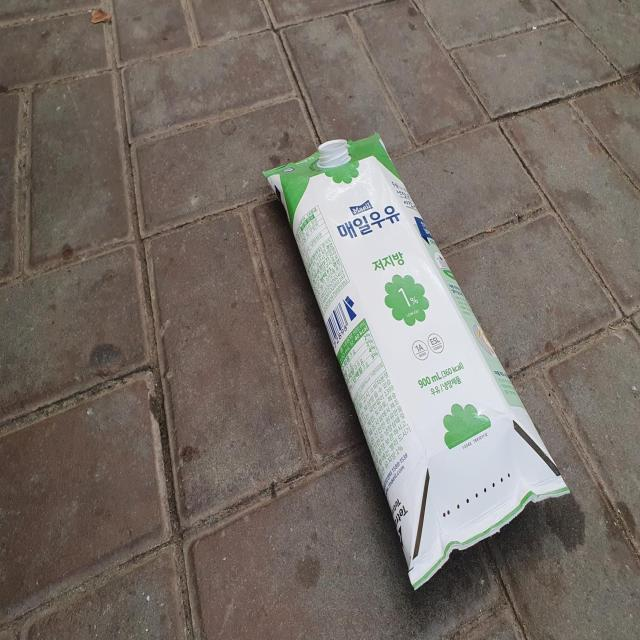paperpack: (264, 133, 570, 589)
